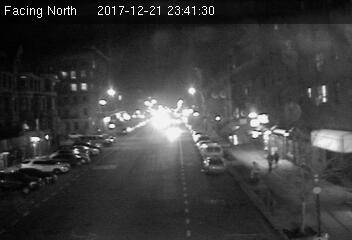car: (202, 155, 225, 173)
pedestrian: (264, 149, 275, 175)
truck: (201, 143, 223, 157)
